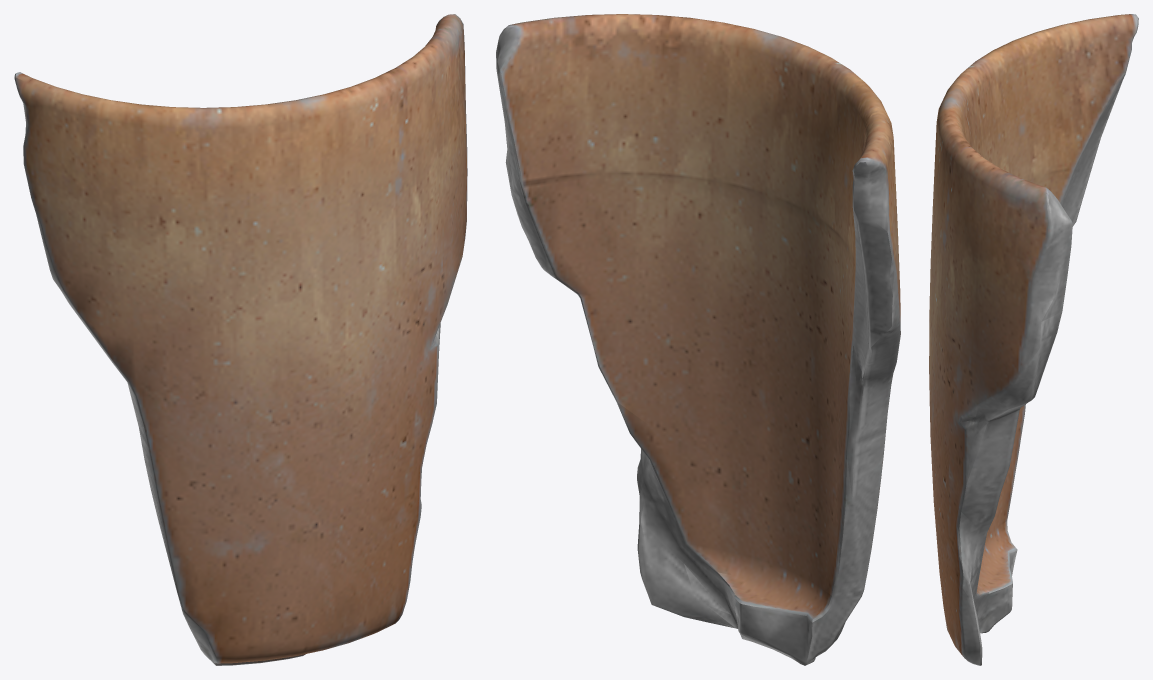
The model's file is Mug_Damage_02.obj.
3 renders of one model, left to right at view 1: azimuth 30°, elevation 25°; view 2: azimuth 150°, elevation 25°; view 3: azimuth 270°, elevation 25°, orthographic. The views are drawn at different scales.
Visible parts, largest first — view 1: SM_Prop_Mug_Damage_02; view 2: SM_Prop_Mug_Damage_02; view 3: SM_Prop_Mug_Damage_02.
Part boxes in pixels (<box>): SM_Prop_Mug_Damage_02: <box>14,14,467,665</box>; SM_Prop_Mug_Damage_02: <box>496,14,900,665</box>; SM_Prop_Mug_Damage_02: <box>929,14,1138,665</box>.
Bounding box in the file's own units: 421 × 560 × 201.
1 material, 1 textured.
